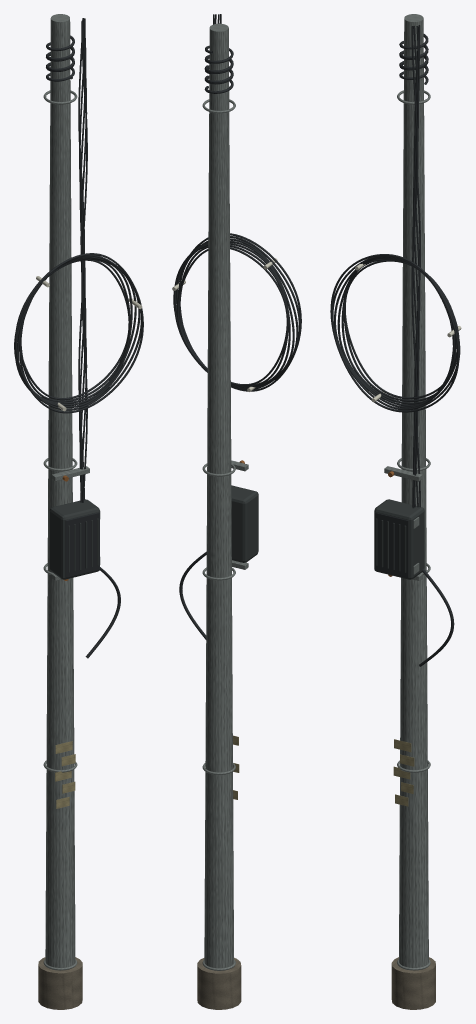
File: kodambakkam-telecom-pole.glb
The picture shows the model from 3 angles, left to right: view 1: azimuth 30°, elevation 25°; view 2: azimuth 150°, elevation 25°; view 3: azimuth 330°, elevation 25°; orthographic projection.
Parts seen in each view (by area): view 1: kodambakkam-telecom-pole / Galvanized zinc | mottled dull co, kodambakkam-telecom-pole / UV aged cable rubber, kodambakkam-telecom-pole / Charcoal fibre junction enclosure, kodambakkam-telecom-pole / Concrete | mineral aggregate and , kodambakkam-telecom-pole / Old torn notice remnants; view 2: kodambakkam-telecom-pole / Galvanized zinc | mottled dull co, kodambakkam-telecom-pole / UV aged cable rubber, kodambakkam-telecom-pole / Charcoal fibre junction enclosure, kodambakkam-telecom-pole / Concrete | mineral aggregate and ; view 3: kodambakkam-telecom-pole / Galvanized zinc | mottled dull co, kodambakkam-telecom-pole / UV aged cable rubber, kodambakkam-telecom-pole / Charcoal fibre junction enclosure, kodambakkam-telecom-pole / Concrete | mineral aggregate and , kodambakkam-telecom-pole / Old torn notice remnants.
Boxes of the visible parts, box(x1,y1,x2,y2) form: kodambakkam-telecom-pole / Galvanized zinc | mottled dull co: box(43, 14, 100, 970); kodambakkam-telecom-pole / UV aged cable rubber: box(14, 18, 143, 658); kodambakkam-telecom-pole / Charcoal fibre junction enclosure: box(49, 499, 99, 579); kodambakkam-telecom-pole / Concrete | mineral aggregate and : box(38, 957, 82, 1009); kodambakkam-telecom-pole / Old torn notice remnants: box(55, 741, 75, 808); kodambakkam-telecom-pole / Galvanized zinc | mottled dull co: box(202, 23, 248, 970); kodambakkam-telecom-pole / UV aged cable rubber: box(173, 14, 301, 639); kodambakkam-telecom-pole / Charcoal fibre junction enclosure: box(231, 485, 258, 562); kodambakkam-telecom-pole / Concrete | mineral aggregate and : box(197, 957, 241, 1009); kodambakkam-telecom-pole / Galvanized zinc | mottled dull co: box(384, 14, 430, 970); kodambakkam-telecom-pole / UV aged cable rubber: box(330, 25, 460, 666); kodambakkam-telecom-pole / Charcoal fibre junction enclosure: box(374, 499, 424, 579); kodambakkam-telecom-pole / Concrete | mineral aggregate and : box(391, 957, 435, 1009); kodambakkam-telecom-pole / Old torn notice remnants: box(393, 739, 414, 806).
Size of the model in its own units: 1.03 by 7.52 by 0.477.
7 materials, 3 textured.
